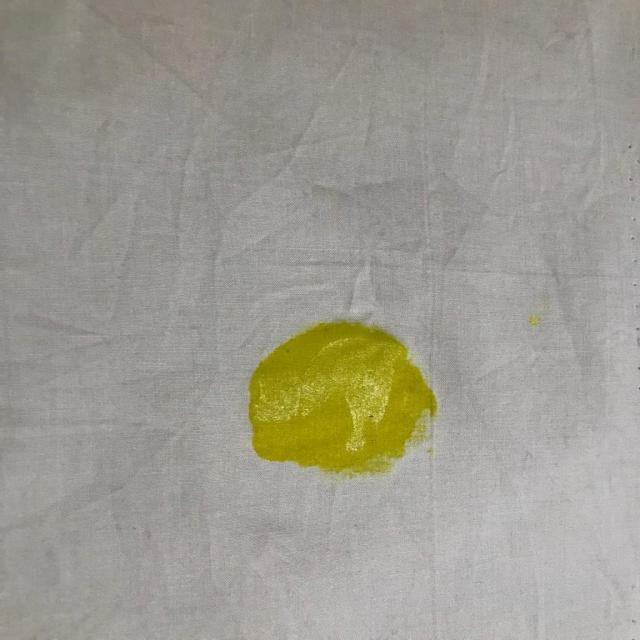Stain: (249, 324, 436, 473)
